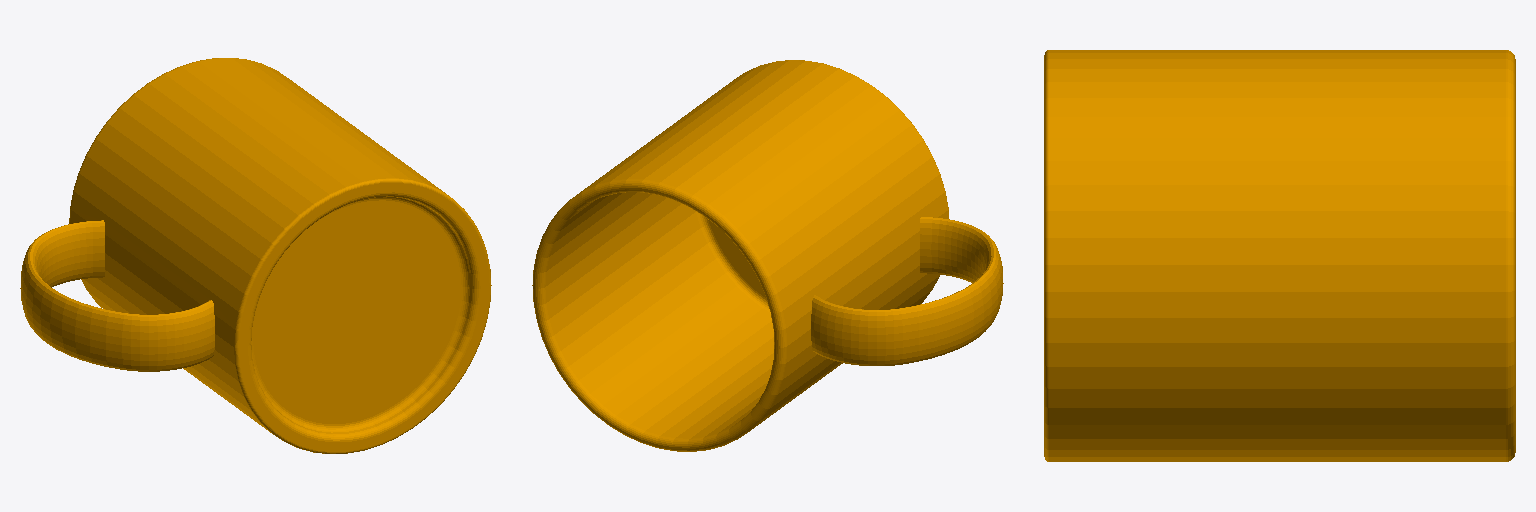
URDF robot description (urdf_robot):
<?xml version="0.0" ?>
<robot name="urdf_robot">
  <link name="base_link">
    <contact>
      <lateral_friction value="1.0"/>
      <rolling_friction value="0.001"/>
      <contact_cfm value="0.0"/>
      <contact_erp value="1.0"/>
    </contact>
    <inertial>
      <origin rpy="0 0 0" xyz="0 0 0"/>
       <mass value="1"/>
       <inertia ixx="0" ixy="-0.87" ixz="-0.49" iyx='0' iyy="-0.49" iyz="0.87" izx="1" izy="0" izz="0"/>
    </inertial>
    <visual>
      <origin rpy="0 0 0" xyz="0 0 0"/>
      <geometry>
				<mesh filename="mug.obj" scale=".11 .11 .11"/>
      </geometry>
      <material name="blue">
        <color rgba="0.23 0.22, 0.96 1"/>
      </material>
    </visual>
    <collision>
      <origin rpy="0 0 0" xyz="0 0 0"/>
      <geometry>
				<mesh filename="mug.obj" scale=".11 .11 .11"/>      
      </geometry>
    </collision>
  </link>
</robot>

--- Render facts (derived) ---
Views: 3 orthographic renders of the robot side by side, from view 1: azimuth 30°, elevation 25°; view 2: azimuth 150°, elevation 25°; view 3: azimuth 270°, elevation 25°.
Model urdf_robot with 1 links and 0 joints (none), rooted at base_link, posed every joint at zero.
Links seen in each view (by area): view 1: base_link; view 2: base_link; view 3: base_link.
Link boxes in pixels (x1,y1,x2,y2): base_link: (20,58,491,453); base_link: (532,60,1003,451); base_link: (1044,50,1515,461).
Bounding box of the posed robot: 0.11 × 0.0869 × 0.0762 m (x, y, z).
Meshes: 1 distinct files referenced, 1 mesh visuals loaded (1 OBJ).